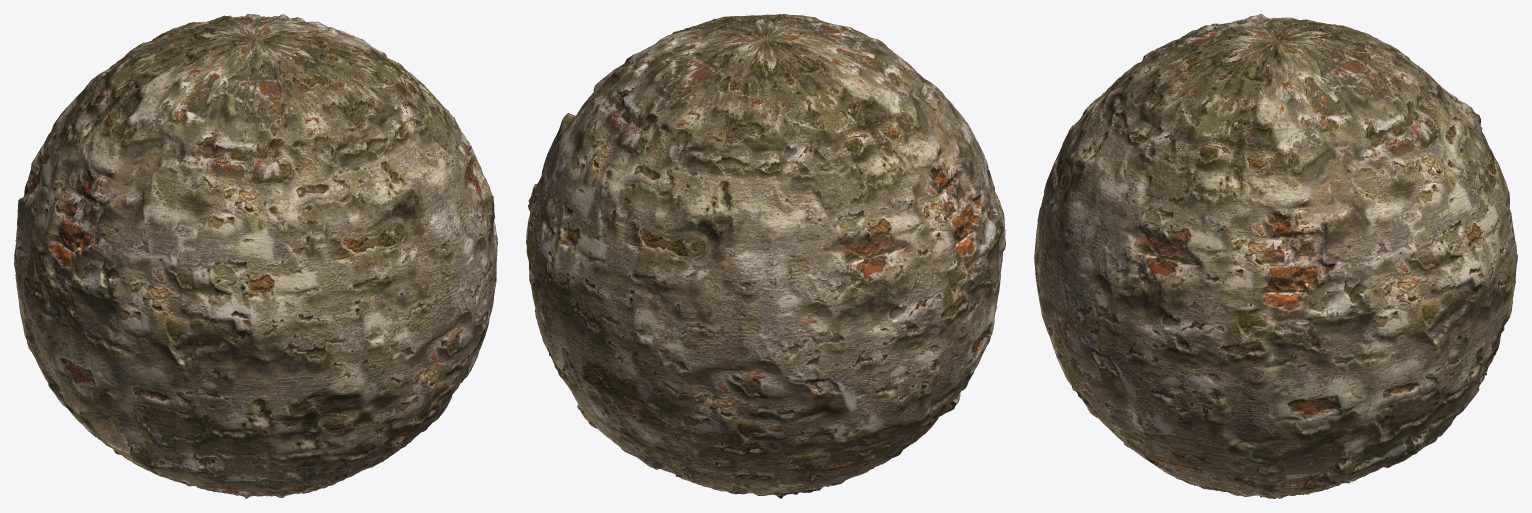
Rendered from rough_plaster_brick_1k.gltf.
The picture shows the model from 3 angles, left to right: view 1: azimuth 30°, elevation 25°; view 2: azimuth 150°, elevation 25°; view 3: azimuth 270°, elevation 25°; orthographic projection.
Parts seen in each view (by area): view 1: sphere_gltf; view 2: sphere_gltf; view 3: sphere_gltf.
Boxes of the visible parts, x1,y1,x2,y2 form: sphere_gltf: [14, 14, 497, 498]; sphere_gltf: [526, 14, 1005, 498]; sphere_gltf: [1034, 14, 1517, 498].
Bounding box in the file's own units: 1.5 × 1.52 × 1.51.
Materials: 1 (1 with a texture image).
